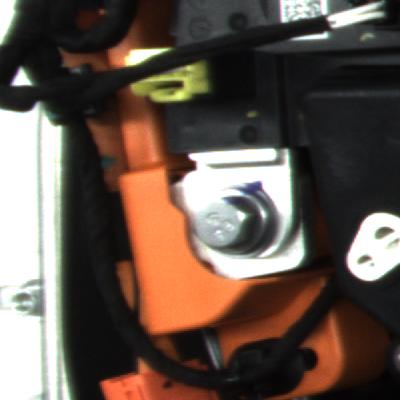nut_b: (184, 181, 282, 263)
